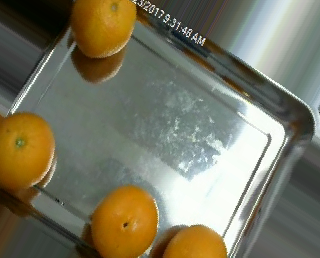Orange: (91, 183, 160, 258), (1, 110, 56, 189), (70, 1, 136, 57)
